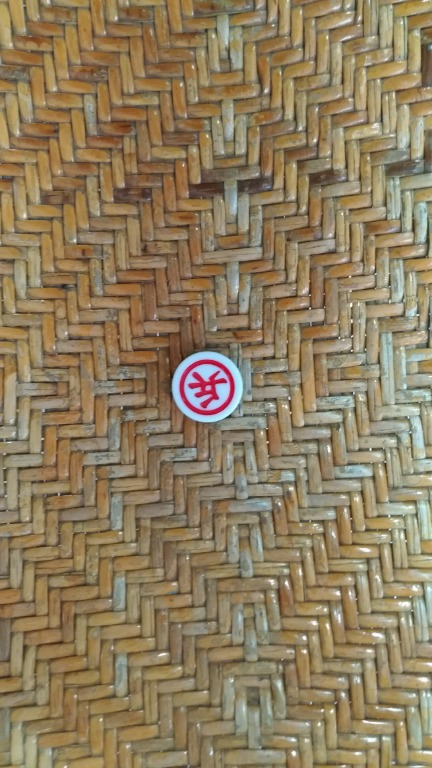r-pawn: (153, 338, 255, 435)
